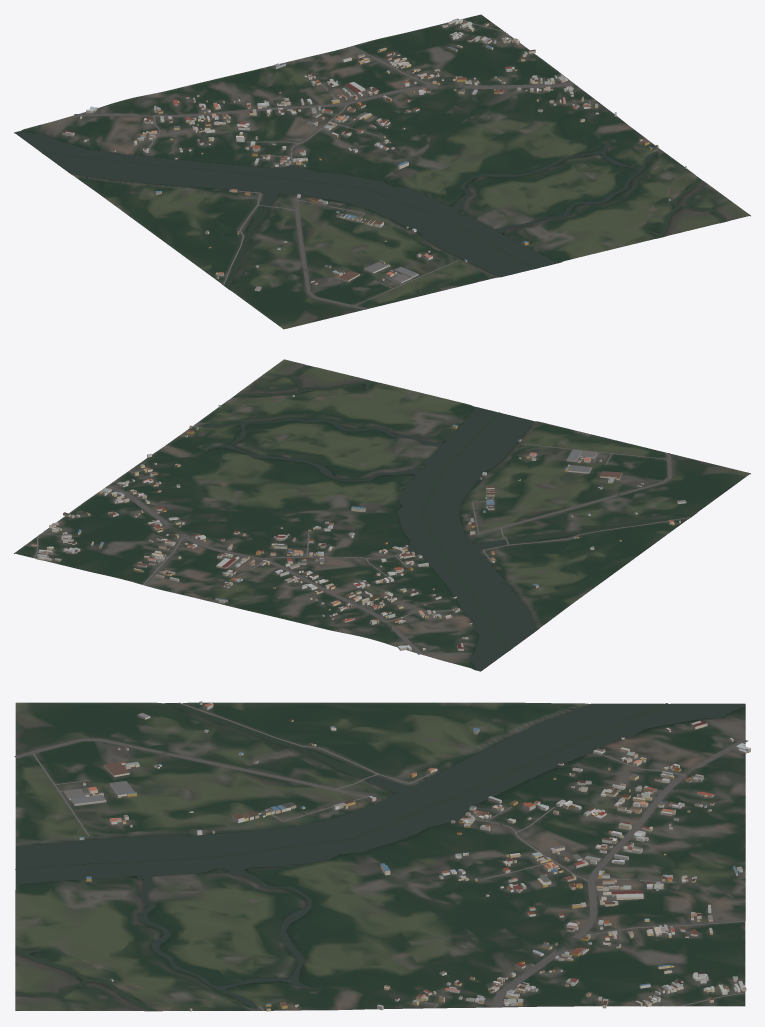
3 renders of one model, top to bottom at view 1: azimuth 30°, elevation 25°; view 2: azimuth 150°, elevation 25°; view 3: azimuth 270°, elevation 25°, orthographic. The views are drawn at different scales.
Visible parts, largest first — view 1: ground, water, buildings, roads; view 2: ground, water, buildings, roads; view 3: ground, water, buildings, roads.
Boxes of the visible parts, x1=… form: ground: x1=14, y1=14, x2=750, y2=329; water: x1=15, y1=131, x2=726, y2=288; buildings: x1=62, y1=18, x2=686, y2=291; roads: x1=74, y1=19, x2=658, y2=309; ground: x1=14, y1=359, x2=750, y2=671; water: x1=199, y1=365, x2=694, y2=670; buildings: x1=31, y1=395, x2=686, y2=650; roads: x1=33, y1=426, x2=690, y2=654; ground: x1=15, y1=702, x2=745, y2=1011; water: x1=15, y1=703, x2=745, y2=1010; buildings: x1=64, y1=701, x2=750, y2=1011; roads: x1=14, y1=702, x2=748, y2=1010.
Size of the model in its own units: 1409 by 25.39 by 1414.
